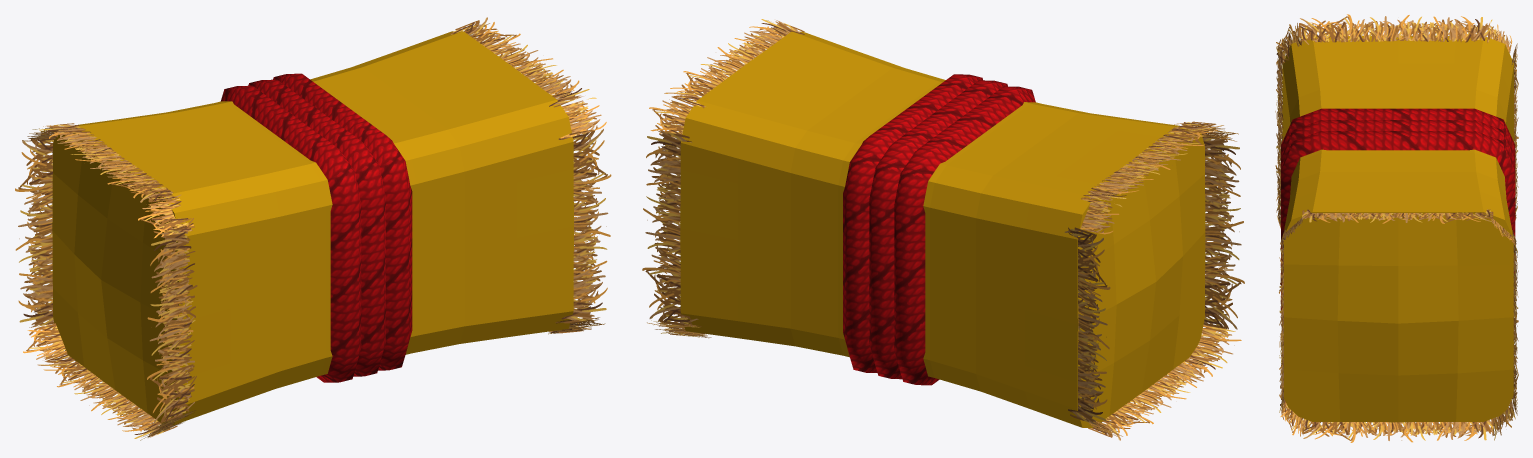
File: hay_block1.2.fbx
The picture shows the model from 3 angles, left to right: view 1: azimuth 30°, elevation 25°; view 2: azimuth 150°, elevation 25°; view 3: azimuth 270°, elevation 25°; orthographic projection. The views are drawn at different scales.
Parts seen in each view (by area): view 1: Cube.001; view 2: Cube.001; view 3: Cube.001.
Part boxes in pixels (box(x1,y1,x2,y2)): Cube.001: box(15, 17, 611, 440); Cube.001: box(642, 19, 1244, 440); Cube.001: box(1275, 14, 1518, 442).
Bounding box in the file's own units: 152 × 74.69 × 74.47.
